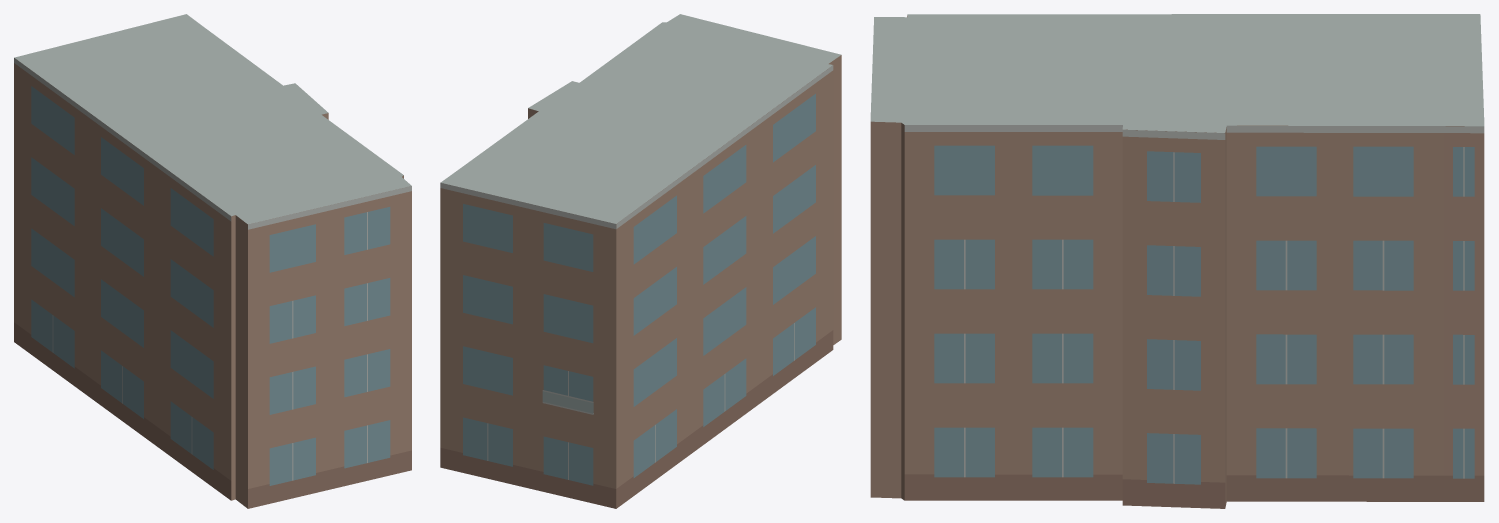
The model's file is survey-upis-32820414.glb.
3 views of the same model, side by side, from view 1: azimuth 30°, elevation 25°; view 2: azimuth 150°, elevation 25°; view 3: azimuth 270°, elevation 25° (orthographic). The views are drawn at different scales.
Parts seen in each view (by area): view 1: survey-upis-32820414.tmp; view 2: survey-upis-32820414.tmp; view 3: survey-upis-32820414.tmp.
Part boxes in pixels (x1,y1,x2,y2): survey-upis-32820414.tmp: (14,14,411,508); survey-upis-32820414.tmp: (440,14,841,508); survey-upis-32820414.tmp: (870,14,1484,508).
Bounding box in the file's own units: 8.9 × 13.08 × 19.38.
